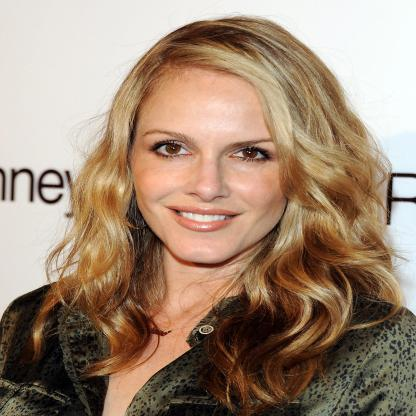long-hair: (37, 268, 410, 303)
